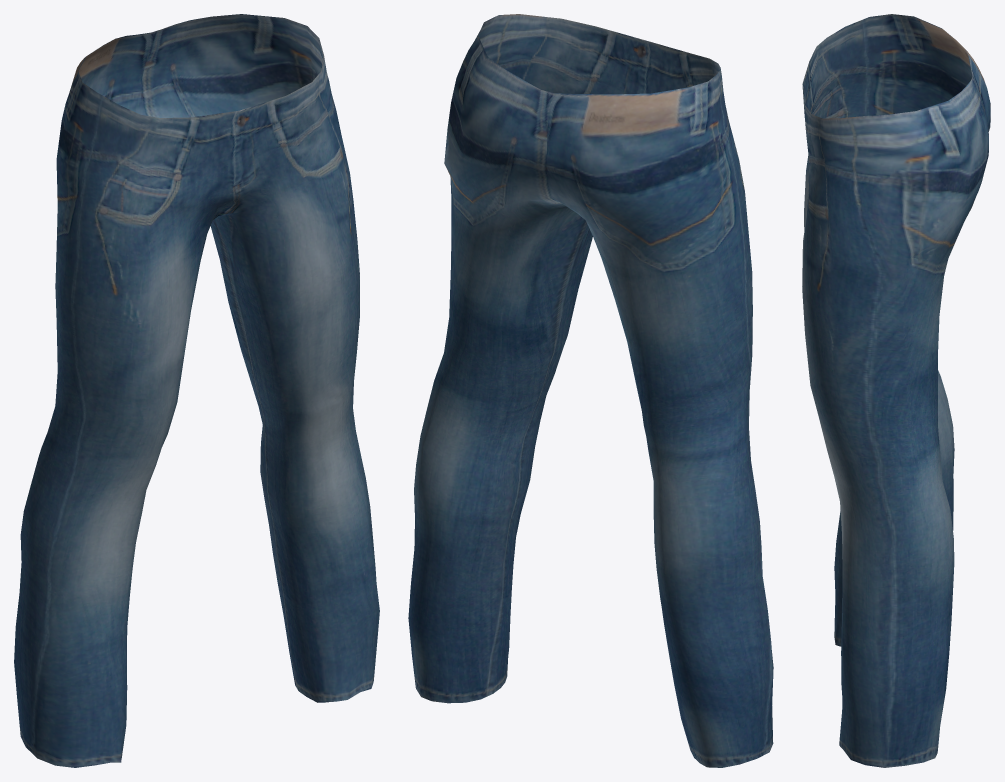
File: jeans.fbx
3 views of the same model, side by side, from view 1: azimuth 30°, elevation 25°; view 2: azimuth 150°, elevation 25°; view 3: azimuth 270°, elevation 25° (orthographic). The views are drawn at different scales.
Parts seen in each view (by area): view 1: jeans; view 2: jeans; view 3: jeans.
Part boxes in pixels (x1=…): jeans: x1=14, y1=14, x2=379, y2=767; jeans: x1=408, y1=14, x2=773, y2=767; jeans: x1=802, y1=14, x2=990, y2=767.
Bounding box in the file's own units: 0.4756 × 0.8899 × 0.2397.
